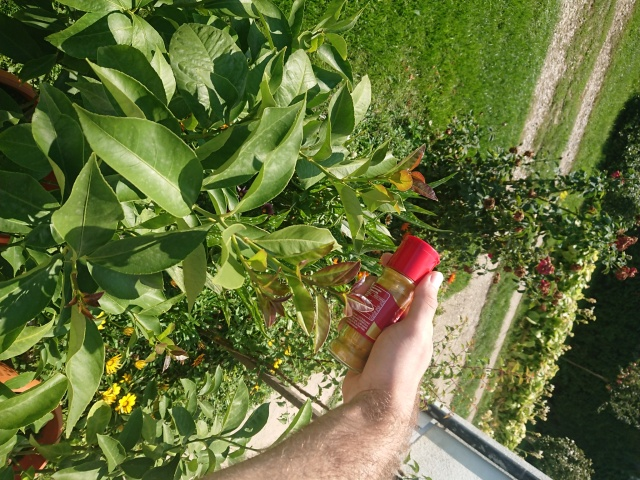Kotanyi Curry Spices Mix 70g: (323, 232, 442, 377)
